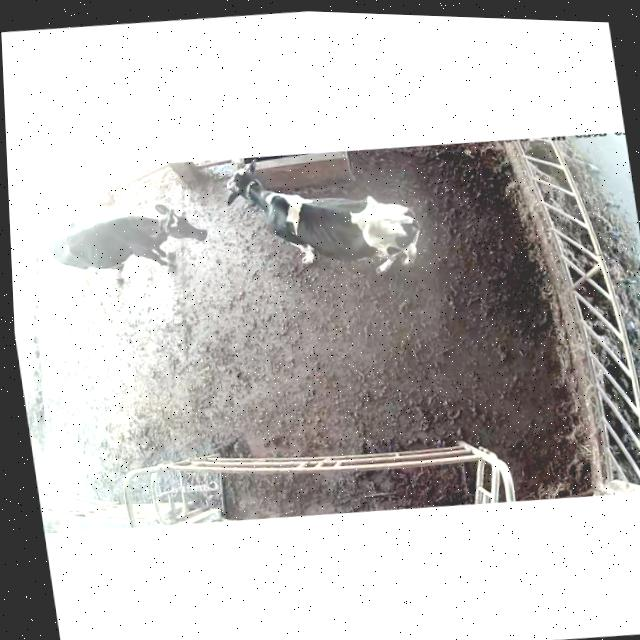stand: (215, 140, 443, 296), (35, 180, 224, 295)
